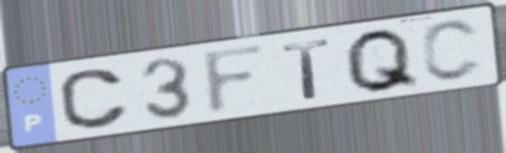3: (138, 55, 195, 124)
C: (55, 66, 133, 132), (418, 17, 486, 85)
F: (200, 40, 271, 119)
Q: (342, 26, 424, 96)
T: (279, 35, 335, 102)
